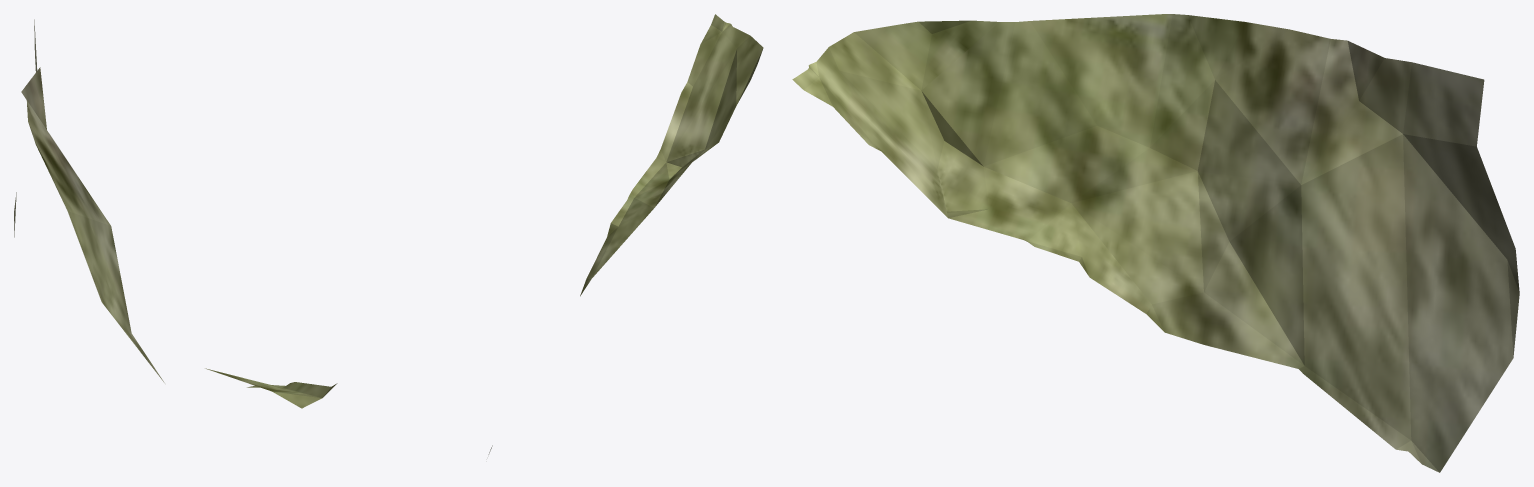
3 views of the same model, side by side, from view 1: azimuth 30°, elevation 25°; view 2: azimuth 150°, elevation 25°; view 3: azimuth 270°, elevation 25° (orthographic). The views are drawn at different scales.
Bounding box in the file's own units: 0.4893 × 1.37 × 2.29.
Materials: 1 (1 with a texture image).
